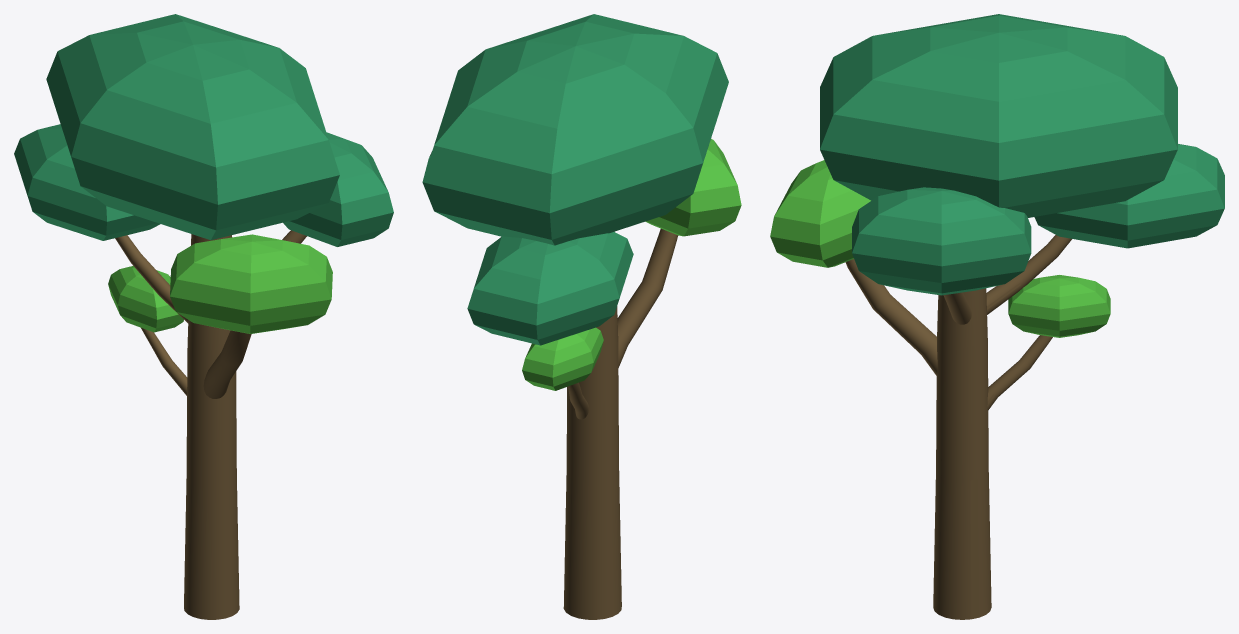
The model's file is Tree.fbx.
3 views of the same model, side by side, from view 1: azimuth 30°, elevation 25°; view 2: azimuth 150°, elevation 25°; view 3: azimuth 270°, elevation 25° (orthographic). The views are drawn at different scales.
Parts seen in each view (by area): view 1: Foliage01_msh, Trunk_msh, Foliage02_msh, Foliage04_msh, Foliage03_msh, Foliage05_msh, Branch01_msh, Branch03_msh, Branch04_msh; view 2: Foliage01_msh, Foliage04_msh, Trunk_msh, Foliage02_msh, Foliage05_msh, Branch01_msh, Branch04_msh; view 3: Foliage01_msh, Trunk_msh, Foliage03_msh, Foliage04_msh, Foliage02_msh, Foliage05_msh, Branch01_msh, Branch03_msh, Branch04_msh, Branch02_msh.
Boxes of the visible parts, bbox=[...] form: Foliage01_msh: bbox=[46, 14, 339, 240]; Trunk_msh: bbox=[184, 234, 239, 619]; Foliage02_msh: bbox=[170, 234, 332, 333]; Foliage04_msh: bbox=[14, 124, 160, 240]; Foliage03_msh: bbox=[283, 132, 393, 246]; Foliage05_msh: bbox=[108, 266, 183, 332]; Branch01_msh: bbox=[203, 330, 251, 398]; Branch03_msh: bbox=[115, 235, 188, 323]; Branch04_msh: bbox=[141, 328, 187, 395]; Foliage01_msh: bbox=[422, 14, 728, 245]; Foliage04_msh: bbox=[467, 232, 633, 345]; Trunk_msh: bbox=[563, 306, 621, 619]; Foliage02_msh: bbox=[645, 139, 741, 236]; Foliage05_msh: bbox=[522, 327, 603, 390]; Branch01_msh: bbox=[617, 228, 678, 367]; Branch04_msh: bbox=[568, 382, 588, 419]; Foliage01_msh: bbox=[820, 14, 1177, 217]; Trunk_msh: bbox=[933, 288, 991, 619]; Foliage03_msh: bbox=[852, 187, 1031, 295]; Foliage04_msh: bbox=[1034, 144, 1224, 248]; Foliage02_msh: bbox=[770, 160, 870, 267]; Foliage05_msh: bbox=[1008, 275, 1110, 337]; Branch01_msh: bbox=[845, 259, 937, 375]; Branch03_msh: bbox=[986, 235, 1071, 314]; Branch04_msh: bbox=[987, 335, 1052, 410]; Branch02_msh: bbox=[943, 292, 971, 324].
Size of the model in its own units: 4.71 by 8.9 by 6.39.
